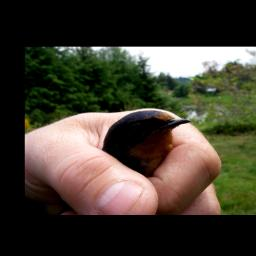Swallow: (100, 108, 194, 178)
